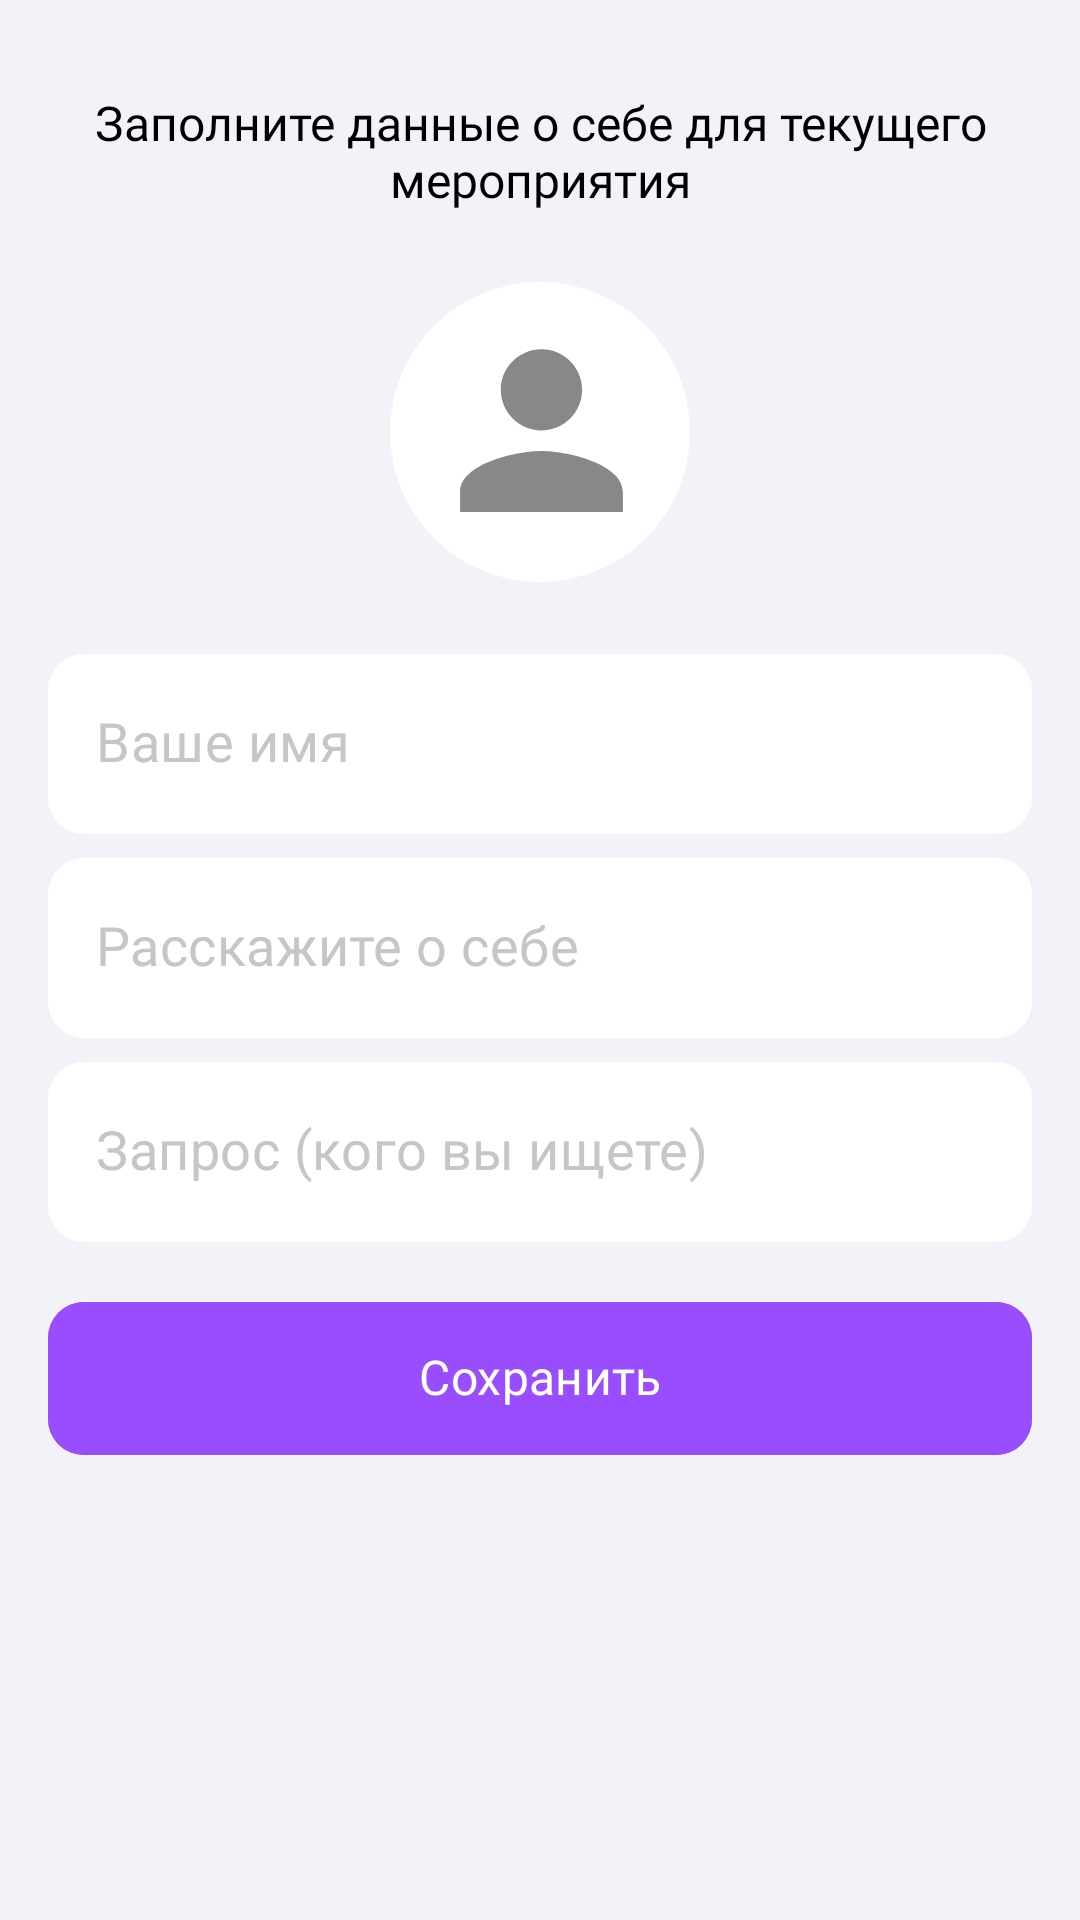

Icon click points for this 1080*1920 phone screenshot, format point (x, y):
profile: point (541, 430)
